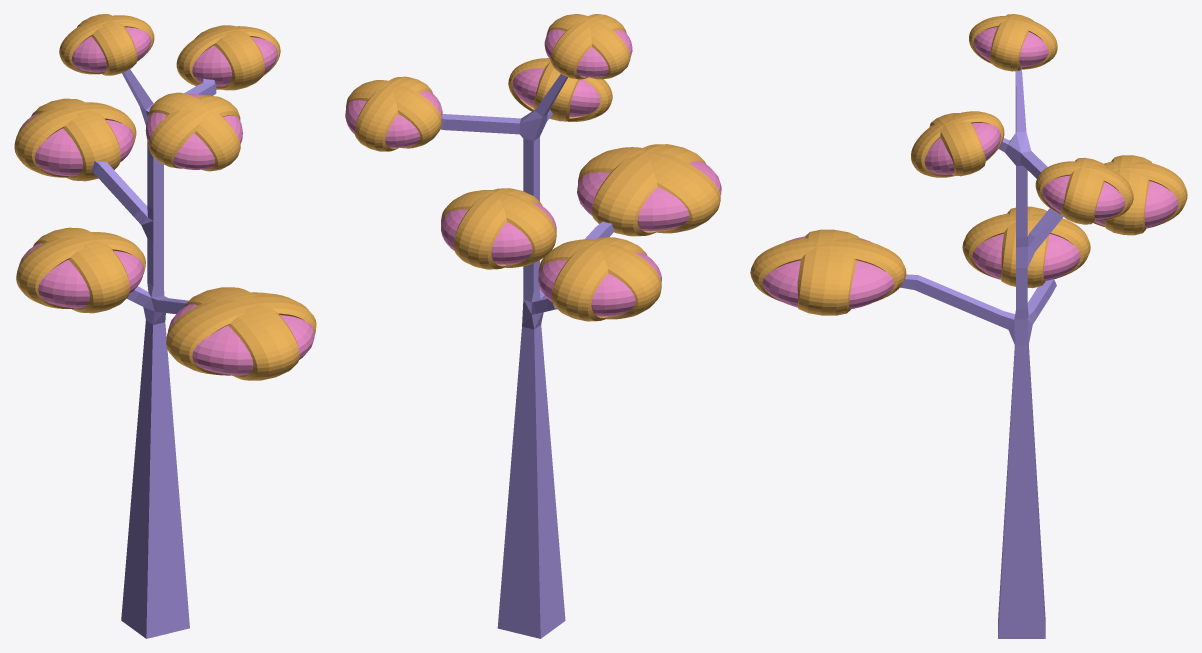
Rendered from Tree_3.fbx.
3 renders of one model, left to right at view 1: azimuth 30°, elevation 25°; view 2: azimuth 150°, elevation 25°; view 3: azimuth 270°, elevation 25°, orthographic. The views are drawn at different scales.
Visible parts, largest first — view 1: Cube.002, Torus, Torus.001, Torus.002, Torus.003, Torus.004, Torus.005, Sphere, Sphere.001, Sphere.002, Sphere.003, Sphere.004 (+1 smaller); view 2: Cube.002, Torus, Torus.001, Torus.002, Torus.004, Torus.005, Sphere, Torus.003, Sphere.001, Sphere.002, Sphere.003, Sphere.004 (+1 smaller); view 3: Cube.002, Torus, Torus.001, Torus.004, Torus.003, Torus.002, Torus.005, Sphere, Sphere.001, Sphere.004, Sphere.003, Sphere.005 (+1 smaller).
Part boxes in pixels (box(x1,y1,x2,y2)): Cube.002: box(91, 69, 216, 638); Torus: box(166, 287, 316, 380); Torus.001: box(16, 227, 145, 313); Torus.002: box(14, 98, 136, 181); Torus.003: box(148, 92, 240, 171); Torus.004: box(176, 25, 280, 90); Torus.005: box(59, 14, 154, 75); Sphere: box(168, 304, 314, 375); Sphere.001: box(19, 243, 143, 308); Sphere.002: box(18, 113, 134, 176); Sphere.003: box(145, 94, 242, 169); Sphere.004: box(192, 37, 277, 86); Cube.002: box(440, 74, 614, 638); Torus: box(578, 144, 720, 236); Torus.001: box(538, 237, 661, 321); Torus.002: box(441, 188, 556, 269); Torus.004: box(346, 76, 441, 151); Torus.005: box(546, 14, 630, 79); Sphere: box(577, 161, 721, 231); Torus.003: box(508, 58, 612, 121); Sphere.001: box(538, 252, 661, 316); Sphere.002: box(441, 203, 556, 264); Sphere.003: box(512, 68, 600, 116); Sphere.004: box(345, 90, 442, 147); Cube.002: box(900, 69, 1063, 638); Torus: box(750, 229, 906, 315); Torus.001: box(962, 206, 1090, 288); Torus.004: box(1035, 157, 1133, 224); Torus.003: box(911, 111, 1004, 177); Torus.002: box(1093, 155, 1187, 235); Torus.005: box(969, 14, 1057, 71); Sphere: box(762, 236, 894, 309); Sphere.001: box(972, 233, 1080, 281); Sphere.004: box(1042, 175, 1124, 220); Sphere.003: box(924, 123, 1001, 174); Sphere.005: box(973, 27, 1048, 67).
Size of the model in its own units: 349 by 732 by 495.
